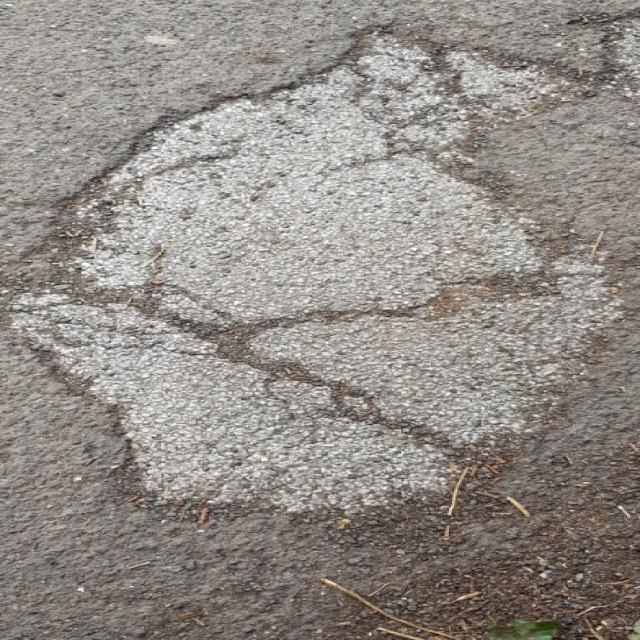pothole: (0, 21, 633, 520)
